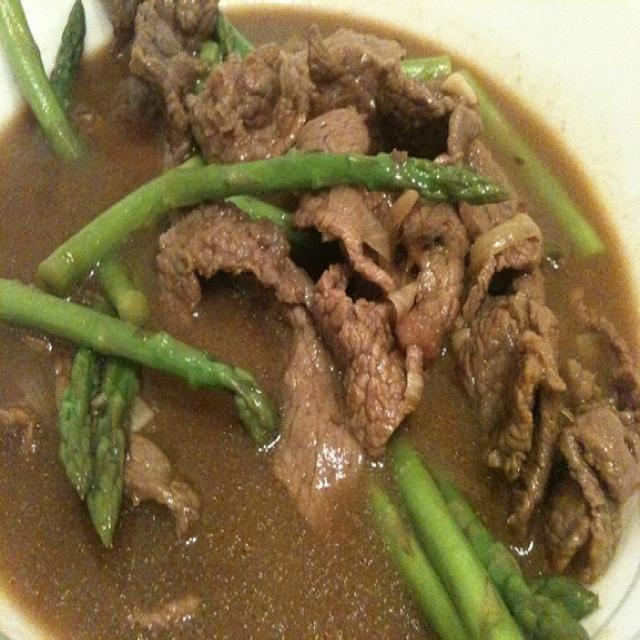牛肉菜式: (28, 18, 631, 607)
